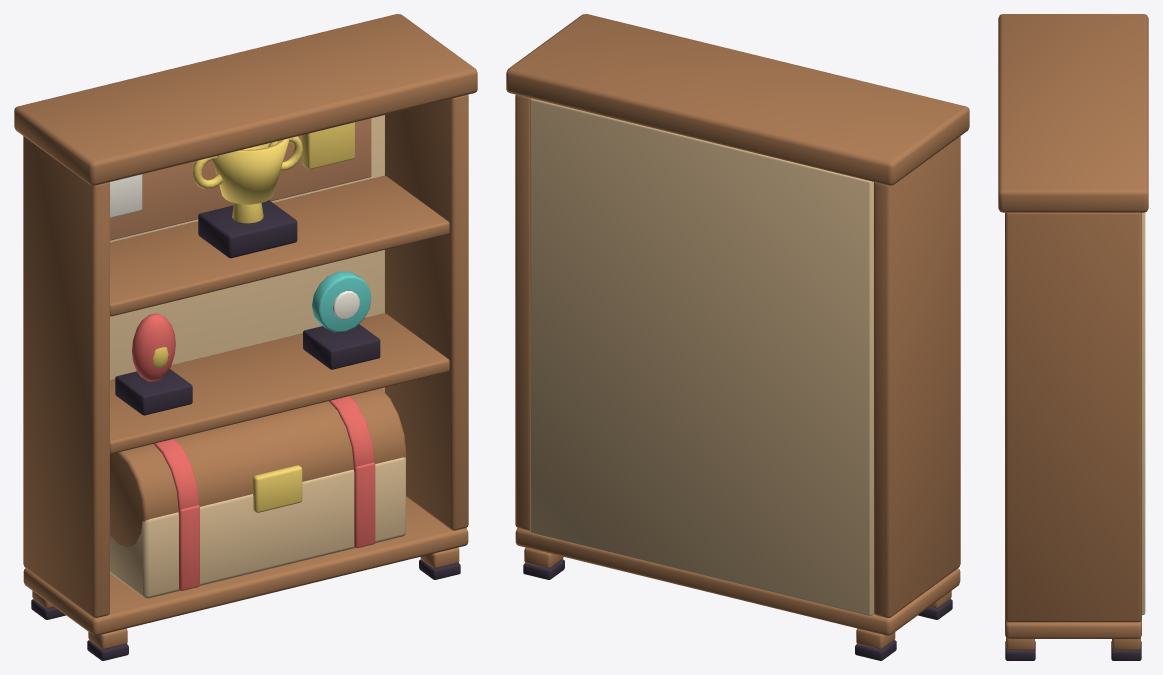
The model's file is trophy-shelf.glb.
3 renders of one model, left to right at view 1: azimuth 30°, elevation 25°; view 2: azimuth 150°, elevation 25°; view 3: azimuth 270°, elevation 25°, orthographic. The views are drawn at different scales.
Visible parts, largest first — view 1: IntTrophyShelf_FrameLid, IntTrophyShelf_ChestBack, IntTrophyShelf_BasesGlides, IntTrophyShelf_GoldTrophy, IntTrophyShelf_CoralStraps, IntTrophyShelf_BackRecess, IntTrophyShelf_TurquoiseAward, IntTrophyShelf_Plaques; view 2: IntTrophyShelf_ChestBack, IntTrophyShelf_FrameLid, IntTrophyShelf_BasesGlides; view 3: IntTrophyShelf_FrameLid, IntTrophyShelf_ChestBack, IntTrophyShelf_BasesGlides.
Part boxes in pixels (x1,y1,x2,y2): IntTrophyShelf_FrameLid: [14, 14, 477, 649]; IntTrophyShelf_ChestBack: [110, 115, 405, 598]; IntTrophyShelf_BasesGlides: [31, 200, 460, 660]; IntTrophyShelf_GoldTrophy: [153, 122, 354, 512]; IntTrophyShelf_CoralStraps: [132, 313, 375, 590]; IntTrophyShelf_BackRecess: [110, 118, 371, 240]; IntTrophyShelf_TurquoiseAward: [312, 271, 371, 332]; IntTrophyShelf_Plaques: [109, 174, 359, 319]; IntTrophyShelf_ChestBack: [530, 98, 873, 615]; IntTrophyShelf_FrameLid: [506, 14, 969, 649]; IntTrophyShelf_BasesGlides: [523, 559, 952, 660]; IntTrophyShelf_FrameLid: [998, 14, 1148, 650]; IntTrophyShelf_ChestBack: [1142, 212, 1145, 614]; IntTrophyShelf_BasesGlides: [1005, 641, 1141, 660].
Bounding box in the file's own units: 1.24 × 1.54 × 0.44.
